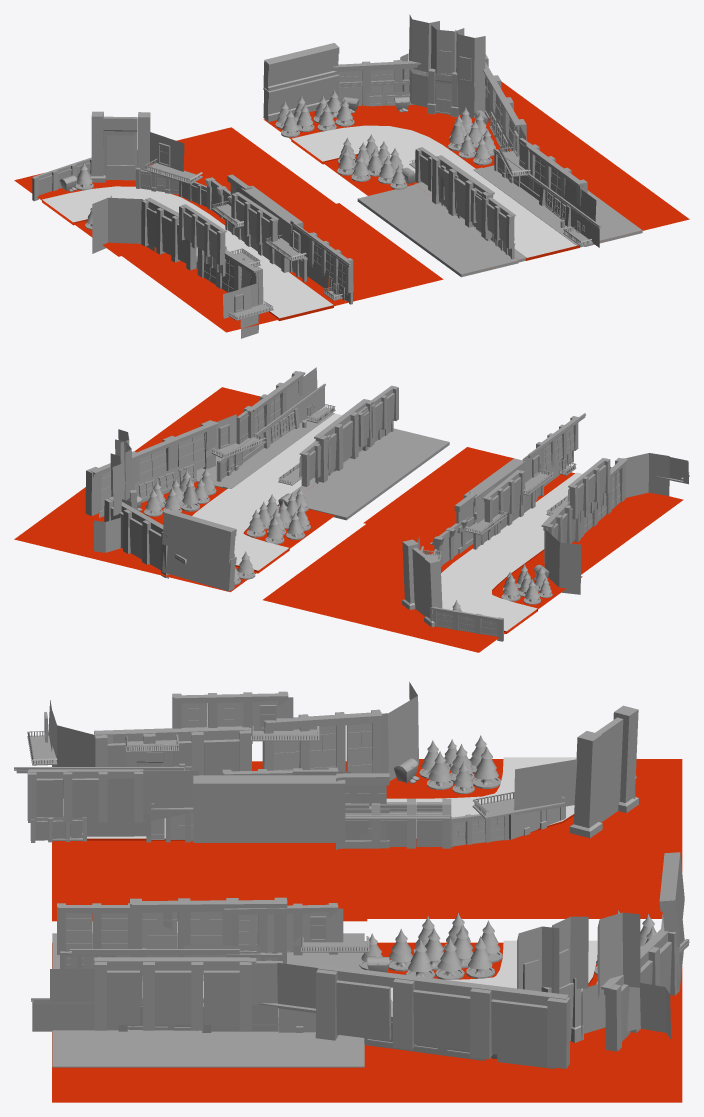
File: Escenario_Modulos.fbx
3 views of the same model, one above another, from view 1: azimuth 30°, elevation 25°; view 2: azimuth 150°, elevation 25°; view 3: azimuth 270°, elevation 25° (orthographic). The views are drawn at different scales.
Parts seen in each view (by area): view 1: Piso_Modulo03, Piso_Modulo01, Piso_Modulo02, Piso_Modulo04, Modulo11, Modulo05, Modulo09, Modulo10, Modulo04, Modulo02, Modulo12, Modulo06 (+4 smaller); view 2: Piso_Modulo02, Piso_Modulo03, Piso_Modulo01, Piso_Modulo04, Modulo10, Modulo09, Modulo02, Modulo12, Modulo05, Modulo06, Modulo04, Modulo07 (+3 smaller); view 3: Piso_Modulo02, Piso_Modulo03, Modulo10, Piso_Modulo01, Modulo09, Piso_Modulo04, Modulo02, Modulo05, Modulo01, Modulo07, Modulo11, Modulo04 (+10 smaller).
Part boxes in pixels (bbox=[...]): Piso_Modulo03: bbox=[357, 143, 689, 277]; Piso_Modulo01: bbox=[122, 203, 443, 332]; Piso_Modulo02: bbox=[14, 127, 335, 256]; Piso_Modulo04: bbox=[263, 81, 584, 195]; Modulo11: bbox=[400, 14, 485, 117]; Modulo05: bbox=[141, 197, 263, 304]; Modulo09: bbox=[493, 126, 601, 247]; Modulo10: bbox=[332, 54, 526, 151]; Modulo04: bbox=[32, 111, 150, 201]; Modulo02: bbox=[205, 174, 303, 272]; Modulo12: bbox=[263, 43, 339, 122]; Modulo06: bbox=[92, 197, 273, 338]; Piso_Modulo02: bbox=[263, 524, 582, 652]; Piso_Modulo03: bbox=[134, 387, 449, 520]; Piso_Modulo01: bbox=[363, 447, 683, 574]; Piso_Modulo04: bbox=[14, 482, 334, 592]; Modulo10: bbox=[85, 420, 218, 578]; Modulo09: bbox=[205, 367, 335, 481]; Modulo02: bbox=[430, 458, 535, 567]; Modulo12: bbox=[162, 510, 236, 591]; Modulo05: bbox=[541, 457, 628, 567]; Modulo06: bbox=[545, 453, 689, 594]; Modulo04: bbox=[402, 539, 503, 641]; Modulo07: bbox=[314, 385, 398, 482]; Piso_Modulo02: bbox=[367, 757, 682, 918]; Piso_Modulo03: bbox=[52, 933, 367, 1102]; Modulo10: bbox=[315, 926, 689, 1068]; Piso_Modulo01: bbox=[52, 761, 367, 921]; Modulo09: bbox=[31, 957, 317, 1032]; Piso_Modulo04: bbox=[367, 940, 682, 1102]; Modulo02: bbox=[190, 767, 451, 849]; Modulo05: bbox=[94, 691, 382, 775]; Modulo01: bbox=[14, 767, 198, 842]; Modulo07: bbox=[57, 897, 287, 975]; Modulo11: bbox=[517, 912, 671, 1042]; Modulo04: bbox=[569, 705, 638, 838].
Bounding box in the file's own units: 35261 × 7442 × 28567.
